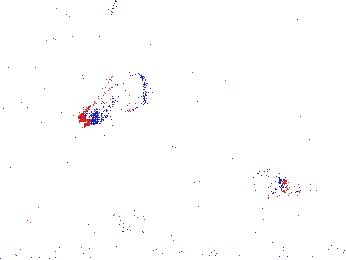flame jellyfish: (70, 172, 156, 228), (79, 66, 155, 128), (242, 167, 303, 220)
